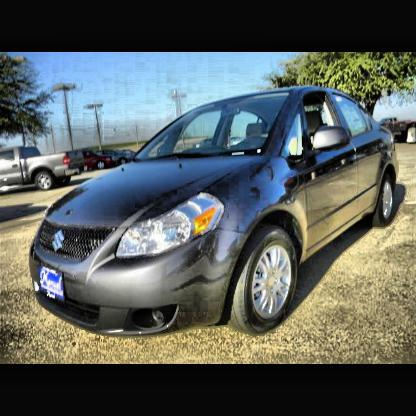Suzuki SX4 Sedan 2012: (29, 86, 402, 337)
